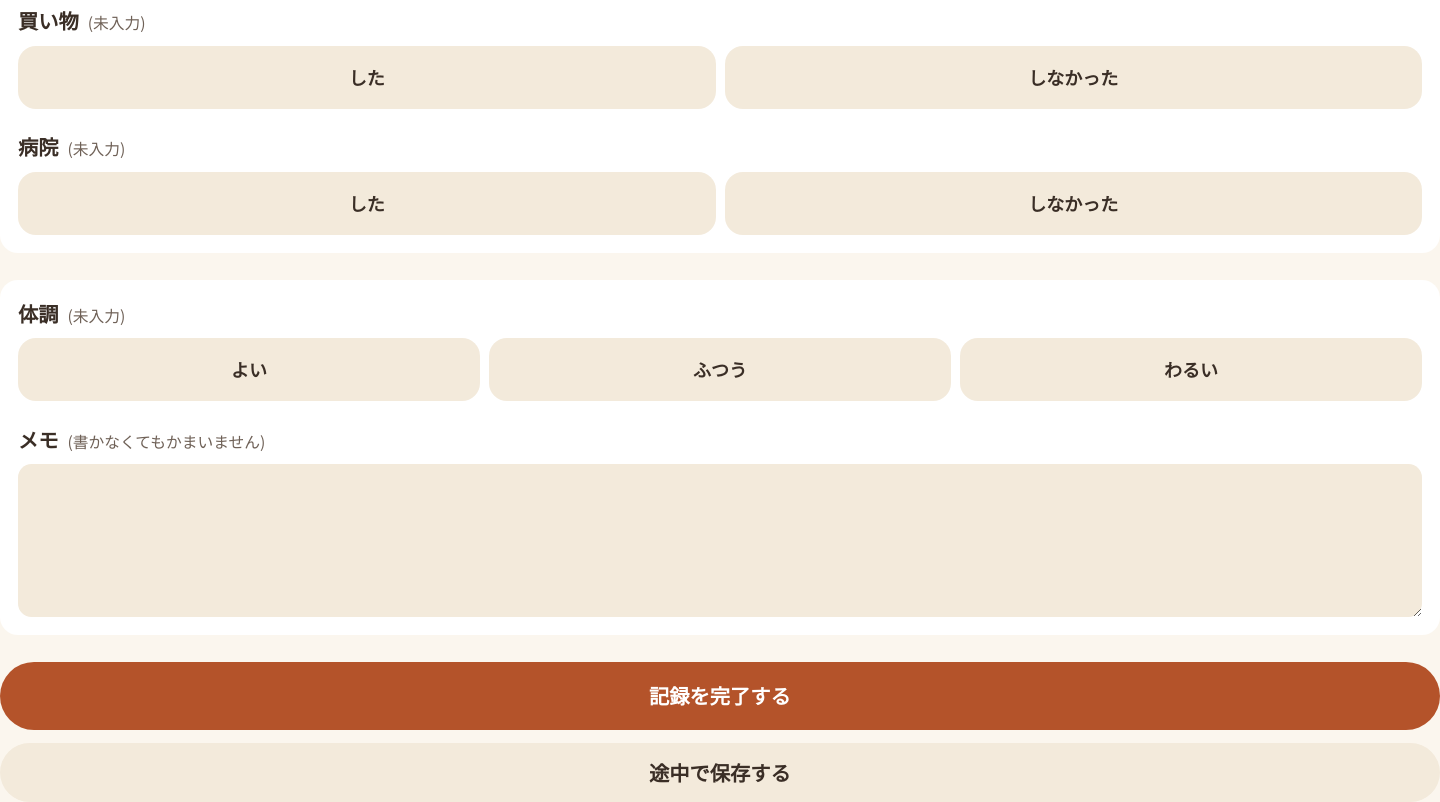
Scenario: RecordForm › 完了だけできなかったときは、保存済みと伝えて、完了をもう一度押せるようにする
The image size is (1440, 802).
(page scrolled)
Click the button "記録を完了する" at (720, 696), box [0, 662, 1439, 730]
(page scrolled)
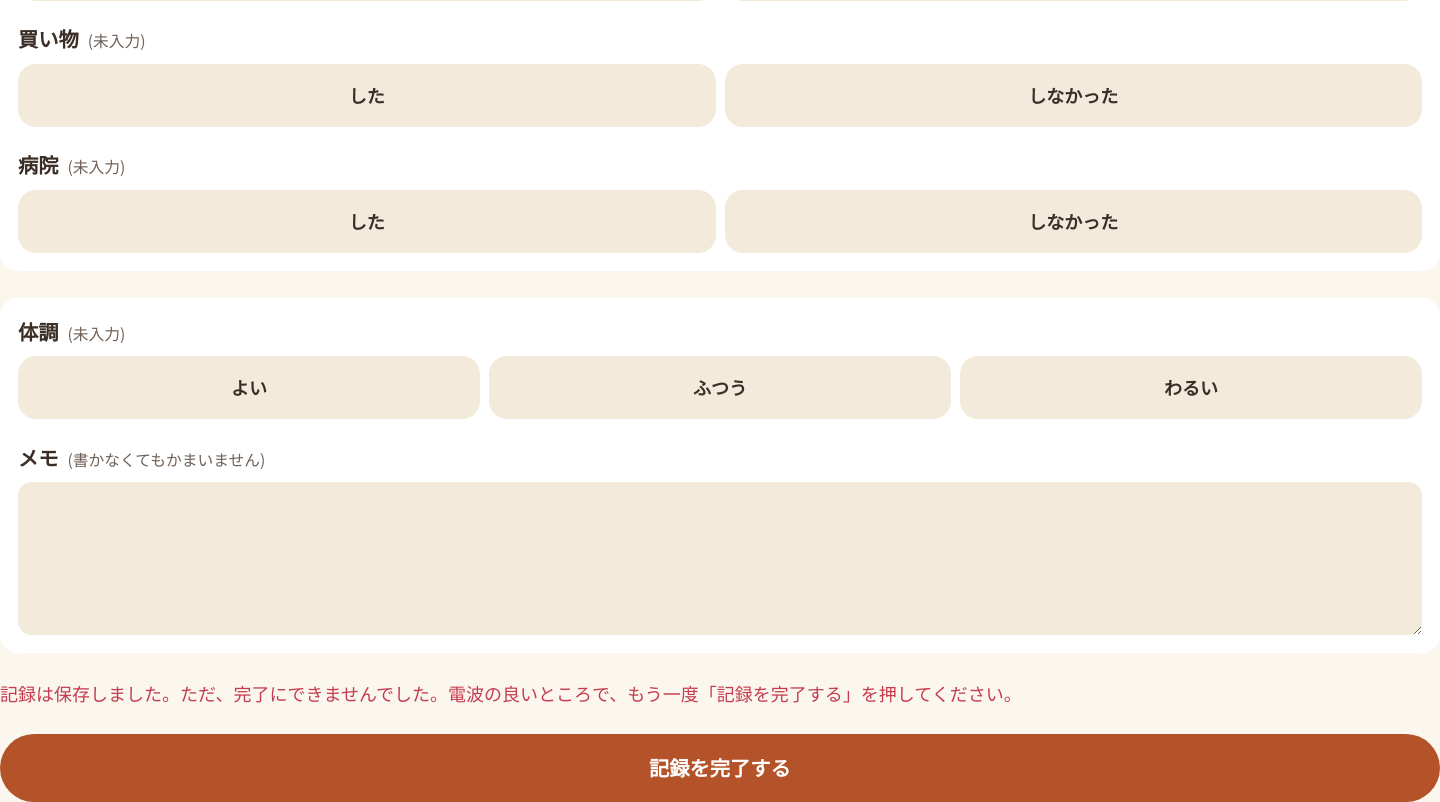
Check: the button "記録を完了する" is shown, box [0, 734, 1439, 801]
Check: the message shows "記録は保存しました。ただ、完了にできませんでした", box [0, 680, 1022, 706]
